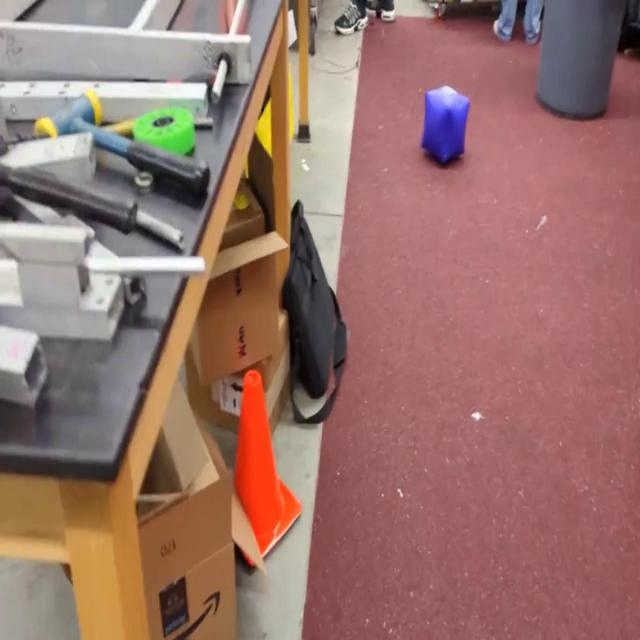frc_cube: (420, 86, 472, 164)
